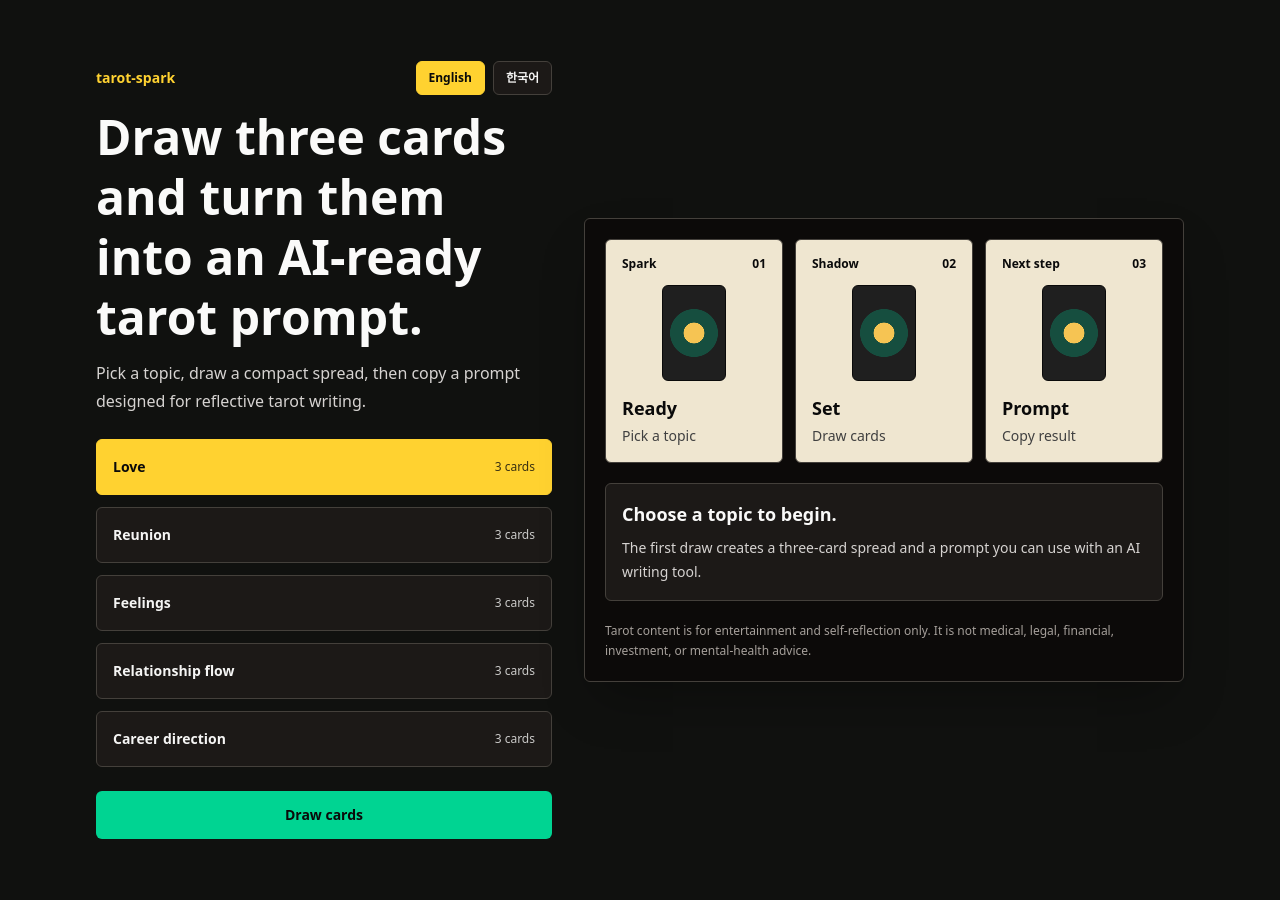
it: Home › labels fallback share as copied text
This screenshot has width=1280, height=900.
Click the button "Draw cards". click: (324, 815)
box: [96, 791, 552, 839]
(page scrolled)
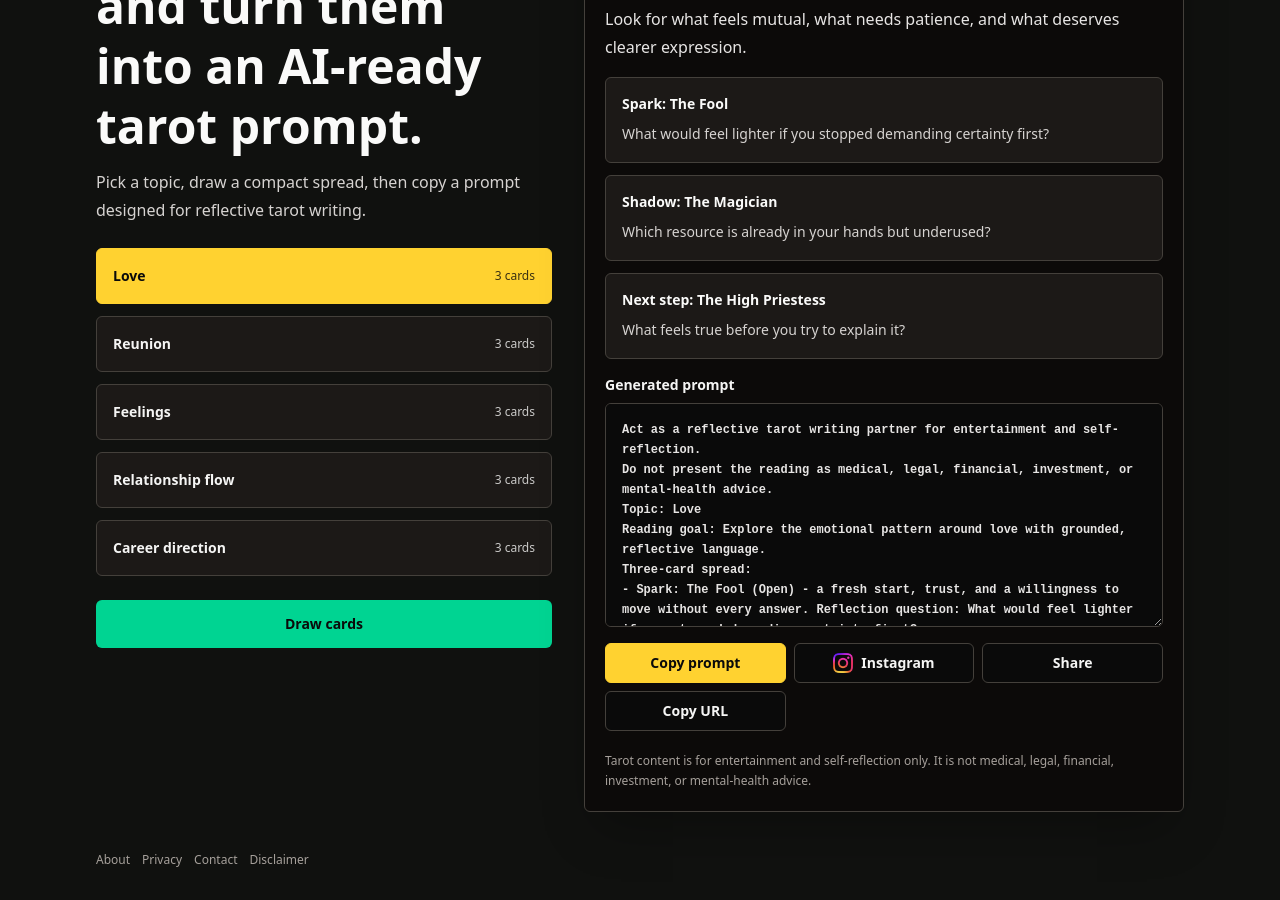
Click the button "Share". click: (1073, 663)
box: [982, 643, 1163, 683]
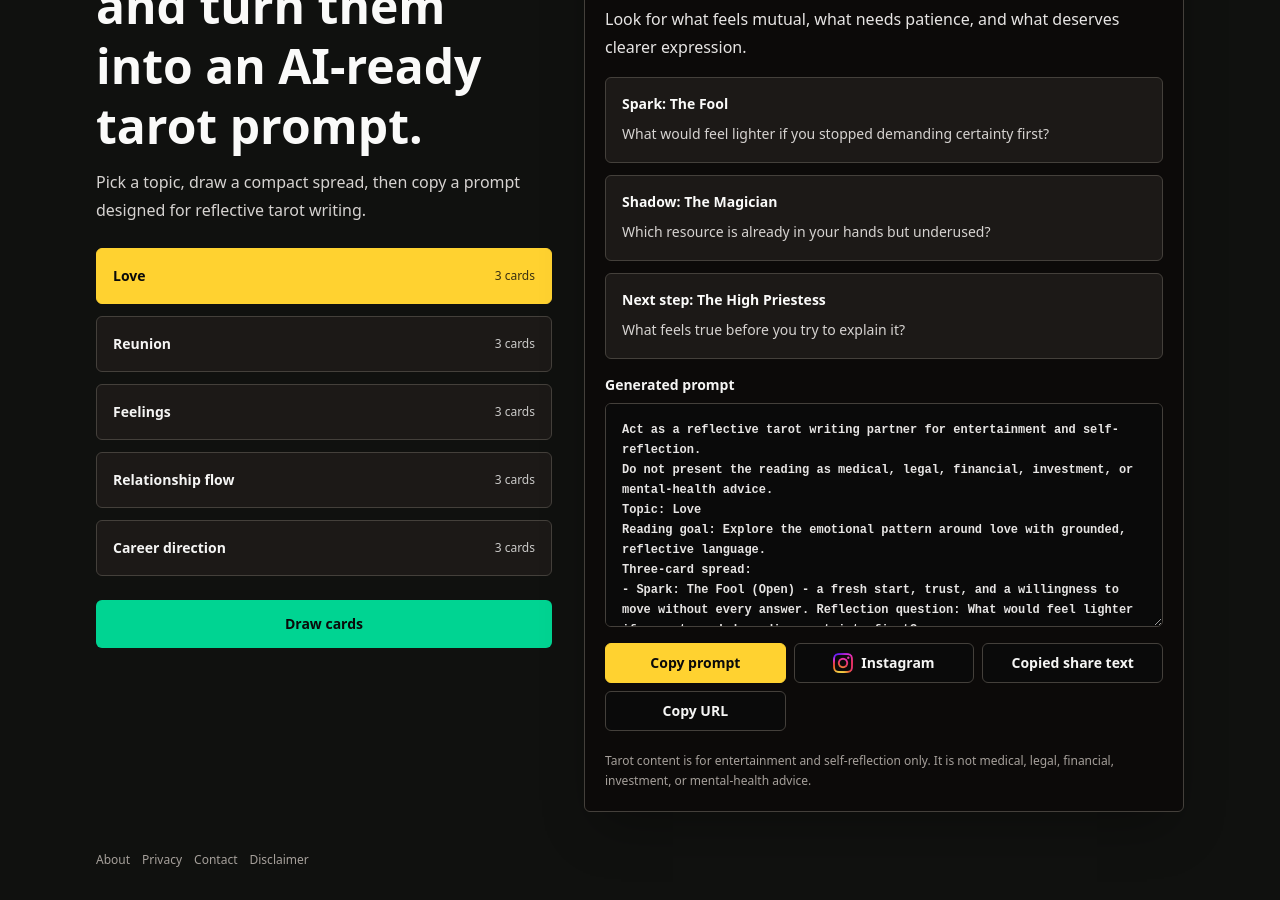
Check: the button "Copied share text" is shown, box [982, 643, 1163, 683]
